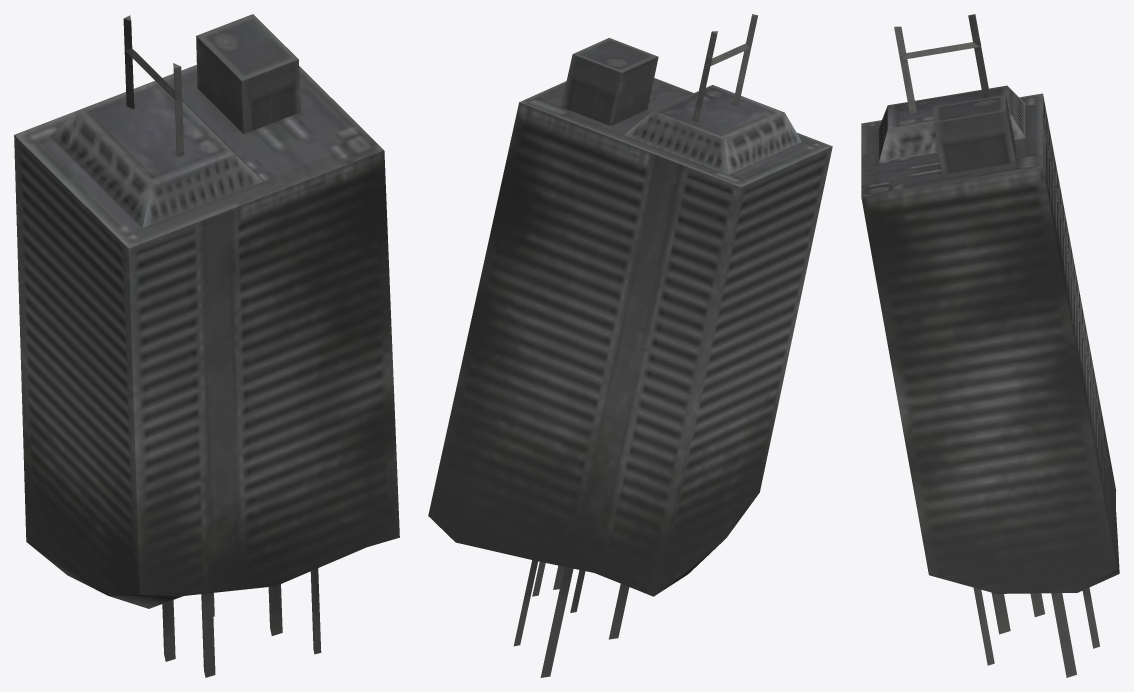
Rendered from skyBuildingAAC_pos_grp (34).fbx.
3 views of the same model, side by side, from view 1: azimuth 30°, elevation 25°; view 2: azimuth 150°, elevation 25°; view 3: azimuth 270°, elevation 25° (orthographic). The views are drawn at different scales.
Visible parts, largest first — view 1: skyBuildingAAC_geo; view 2: skyBuildingAAC_geo; view 3: skyBuildingAAC_geo.
Part boxes in pixels (x1,y1,x2,y2): skyBuildingAAC_geo: (14,14,399,677); skyBuildingAAC_geo: (428,14,832,677); skyBuildingAAC_geo: (861,14,1119,677).
Bounding box in the file's own units: 5.09 × 11.21 × 4.33.
